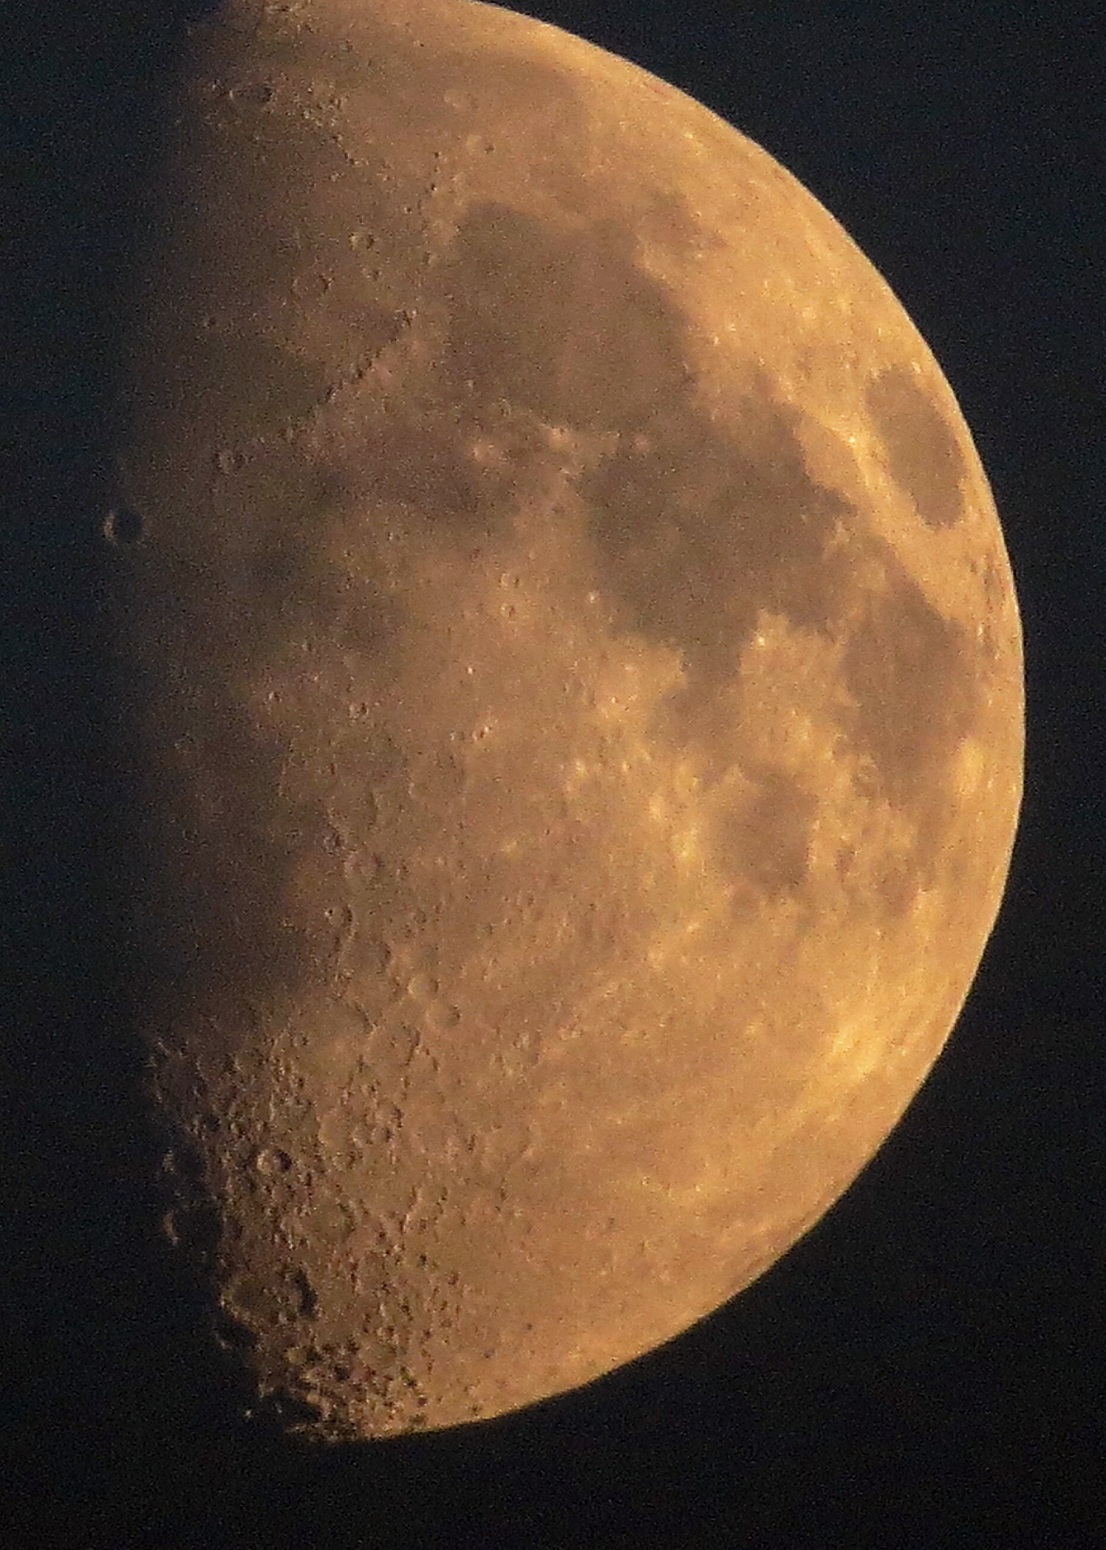crater: (310, 692, 417, 789), (394, 727, 492, 823), (224, 62, 308, 129), (274, 262, 345, 333), (89, 499, 162, 566), (940, 716, 985, 820), (203, 433, 265, 490), (426, 81, 494, 128), (259, 1137, 311, 1195), (329, 839, 387, 889), (452, 124, 511, 166), (548, 397, 585, 458), (397, 962, 446, 1005), (427, 999, 473, 1041), (824, 721, 861, 771), (494, 557, 531, 604), (829, 415, 864, 462)
